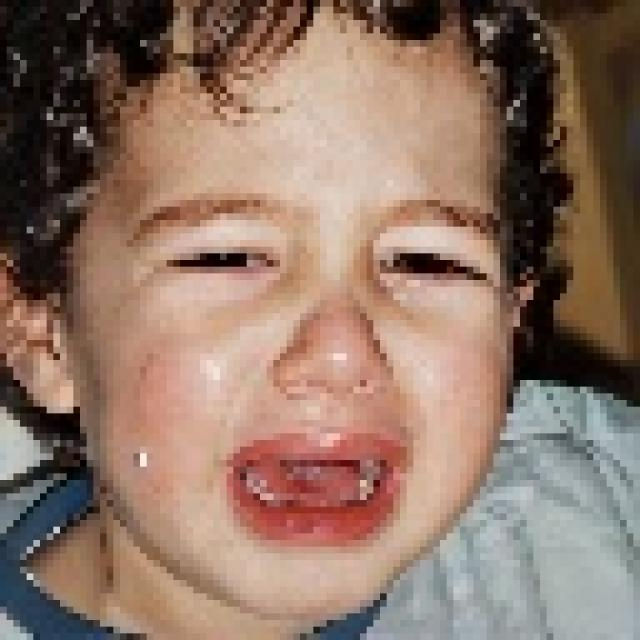sad: (19, 23, 546, 637)
